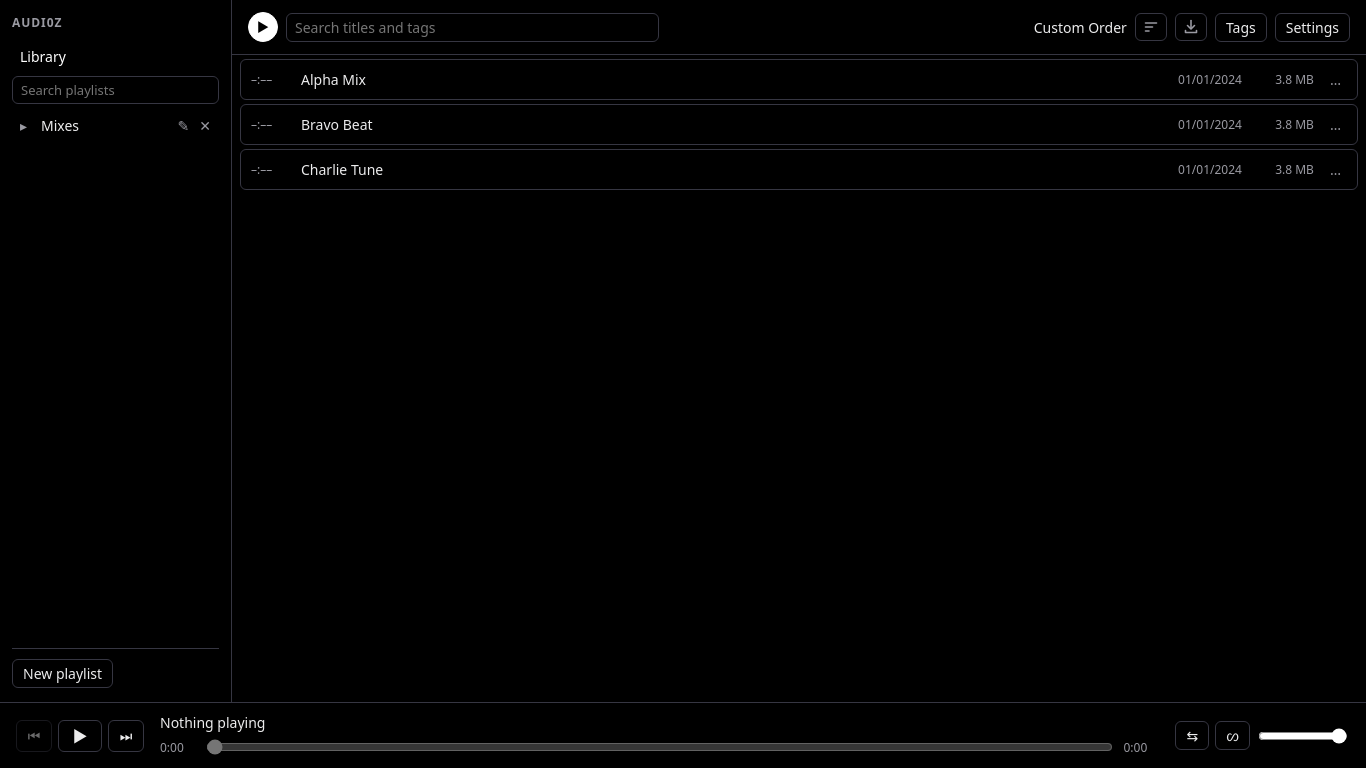
Sidebar › expands a playlist without disturbing the queue
This screenshot has width=1366, height=768.
Click the button "Alpha Mix" at (334, 80), box x1=301 y1=68 x2=1158 y2=91
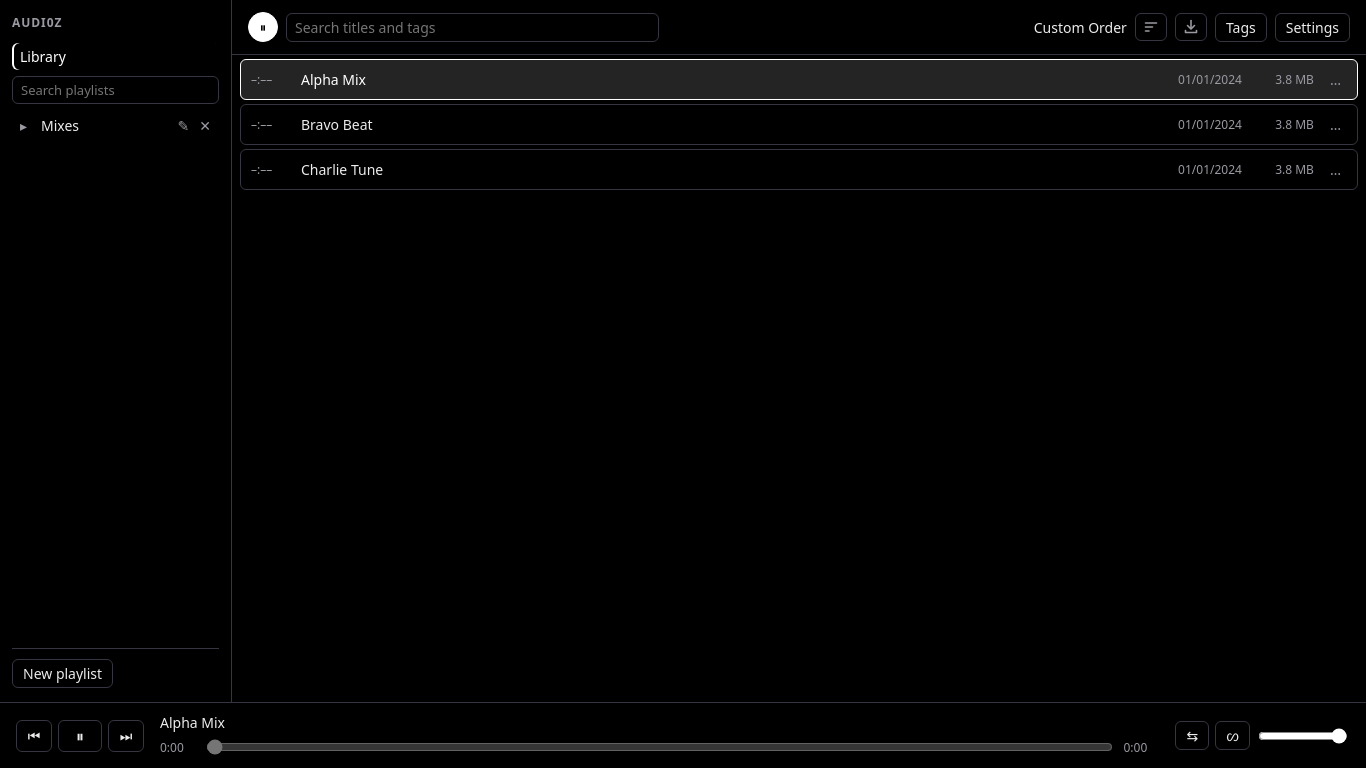
Click the button named "Expand Mixes" at (24, 126), box x1=16 y1=114 x2=31 y2=137
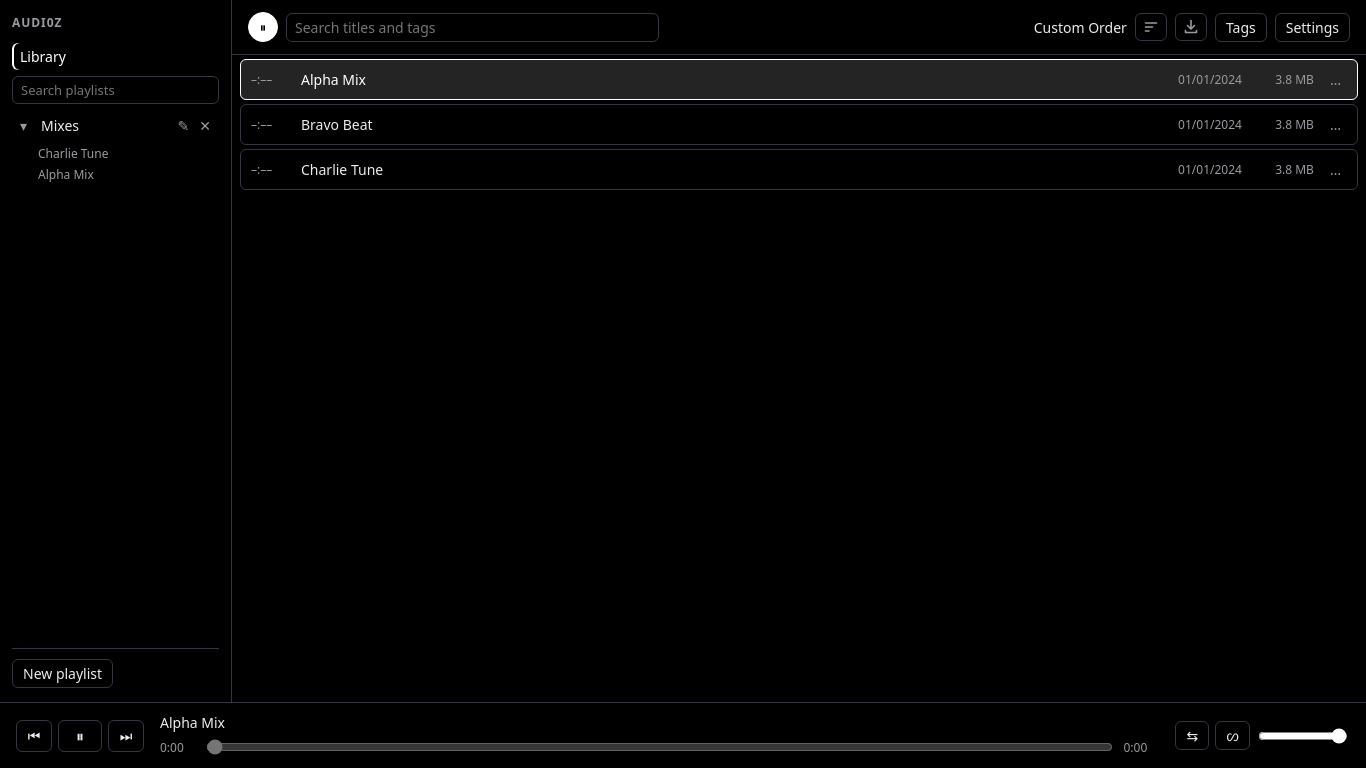
Check: the list item "Charlie Tune" is shown, box x1=38 y1=145 x2=108 y2=162
Check: the button named "Collapse Mixes" is shown, box x1=16 y1=114 x2=31 y2=137
Check: the list item "Alpha Mix" is shown, box x1=38 y1=166 x2=94 y2=183
